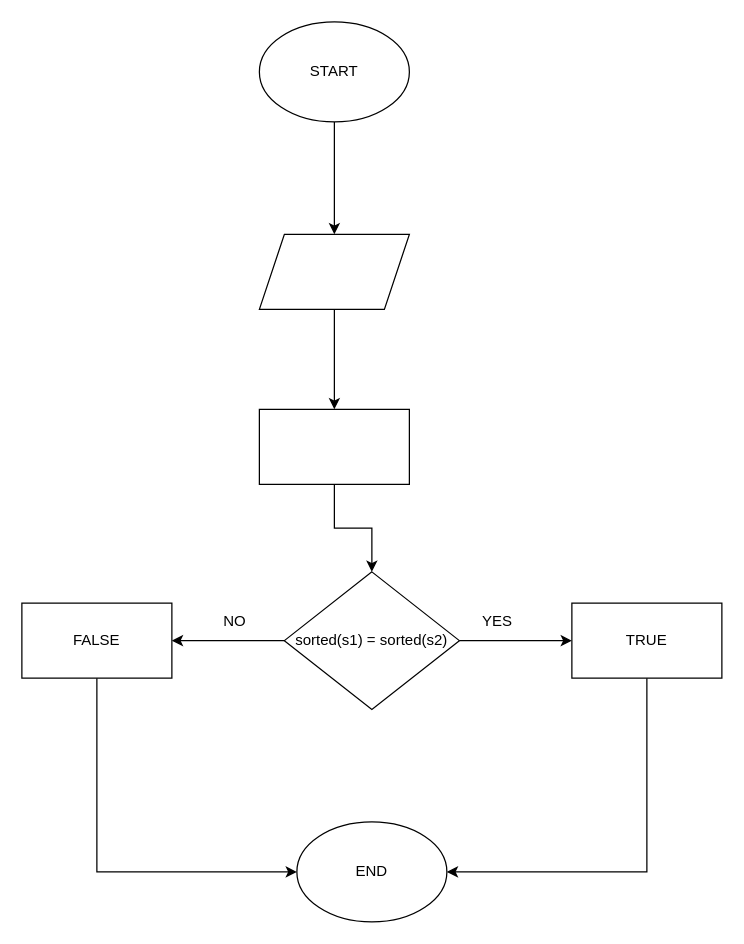
Some shapes in this 744 by 944 pixel diagram are drawn without their labels. Here are the shapes that lost their labels. From the top down, the centre of each, then its label:
At (333,271): "insert variables s1, s2".
At (333,446): "sorted(s1) sorted(s2)".
